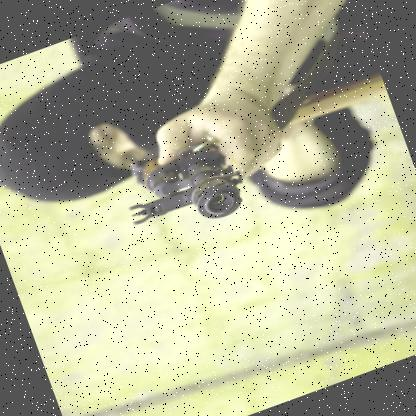rifle: (94, 95, 293, 255)
